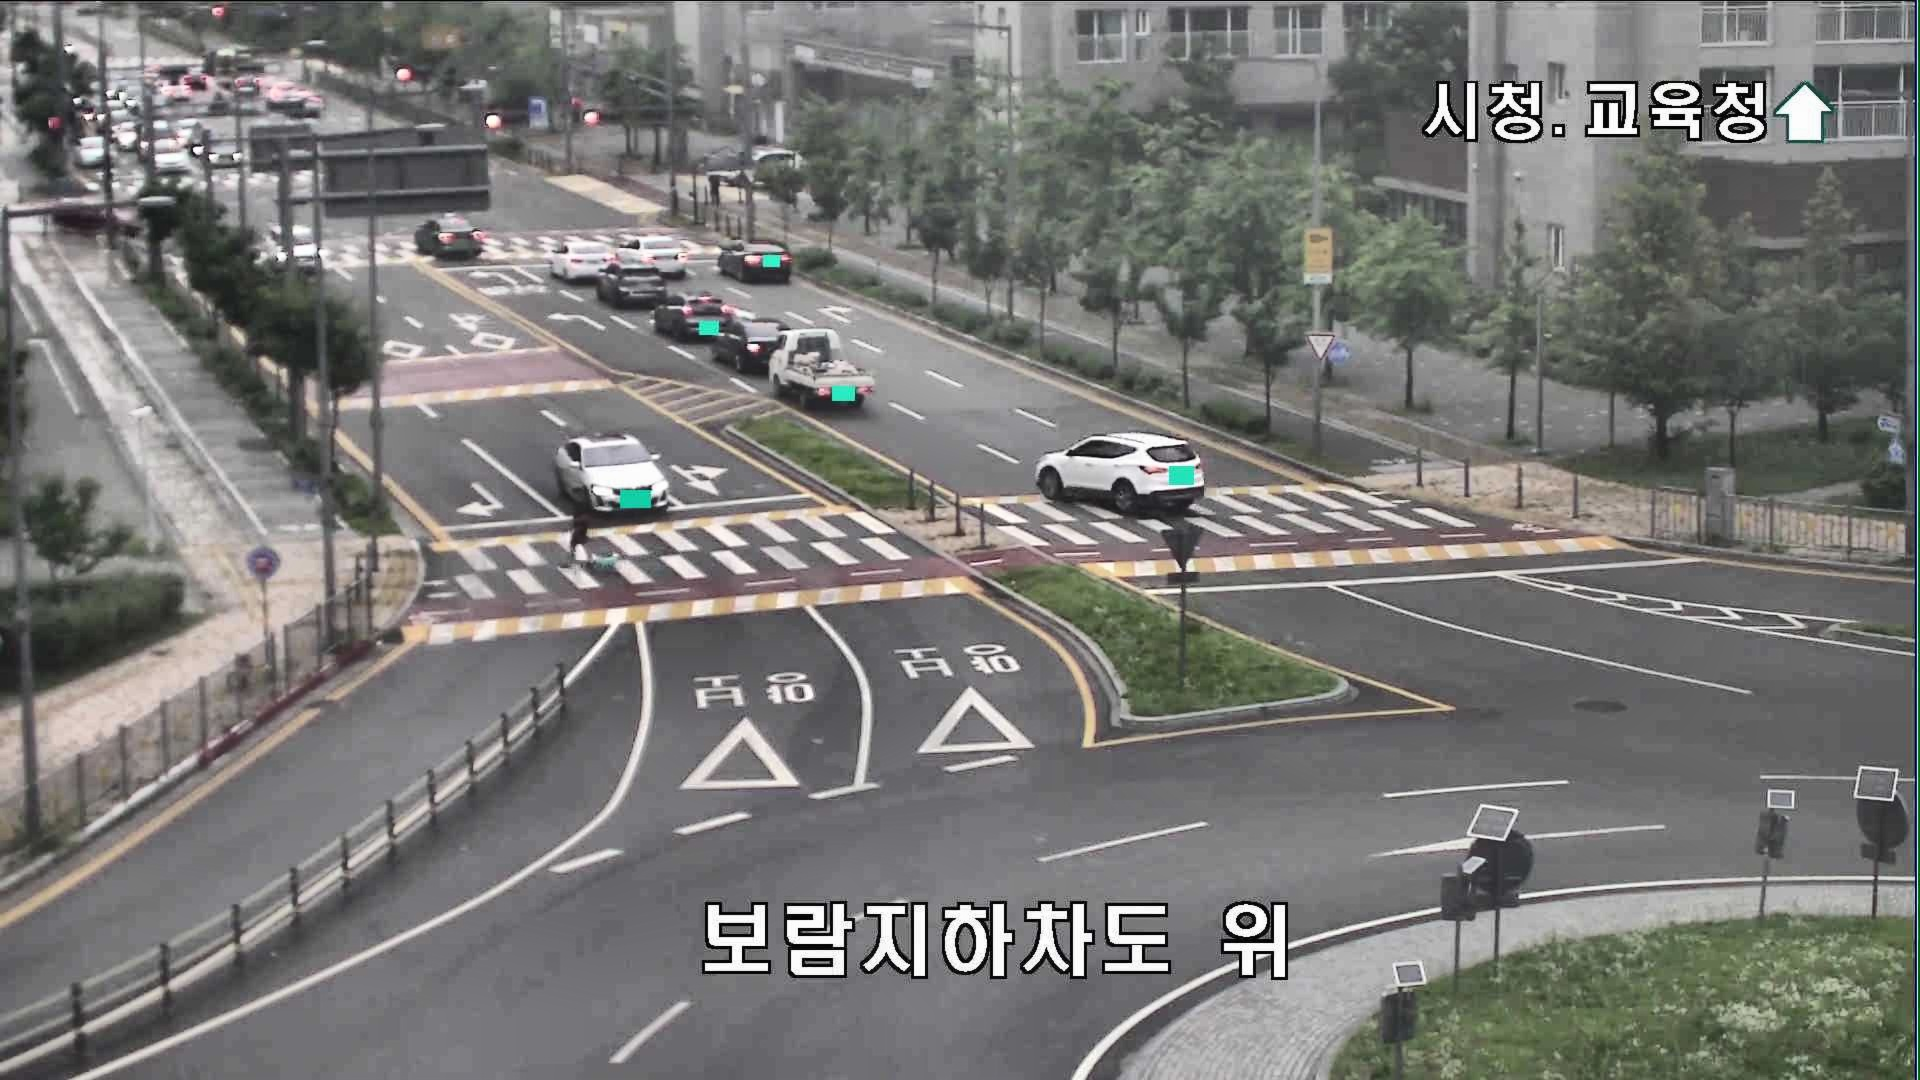crosswalk: (564, 483, 593, 564)
